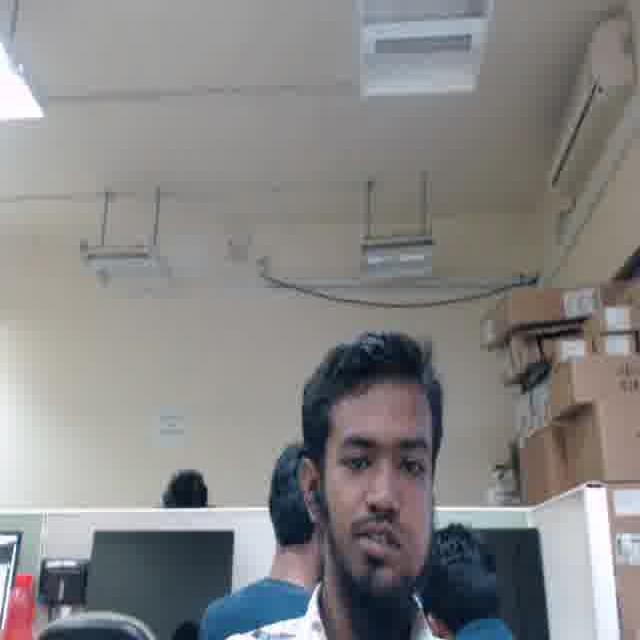Engaged: (322, 387, 436, 589)
